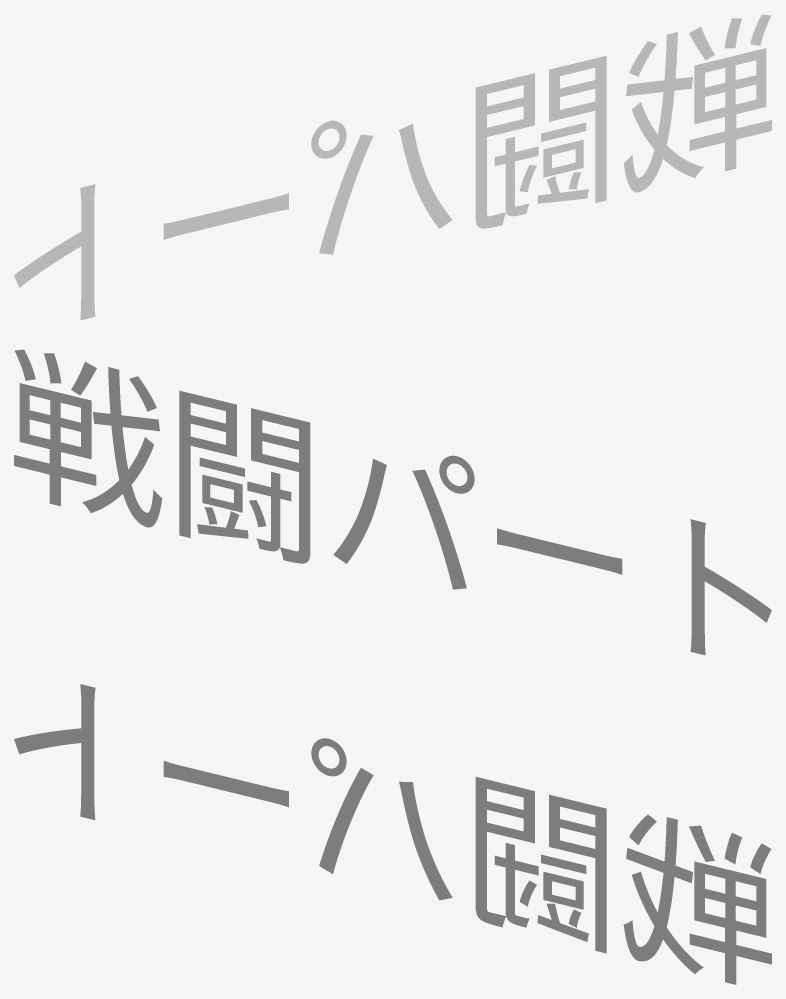
Rendered from fightpart.obj.
3 views of the same model, one above another, from view 1: azimuth 30°, elevation 25°; view 2: azimuth 150°, elevation 25°; view 3: azimuth 330°, elevation 25° (orthographic).
Visible parts, largest first — view 1: テキスト.005; view 2: テキスト.005; view 3: テキスト.005.
Part boxes in pixels (x1=…): テキスト.005: x1=14, y1=14, x2=771, y2=320; テキスト.005: x1=14, y1=349, x2=771, y2=655; テキスト.005: x1=14, y1=684, x2=771, y2=984.
Size of the model in its own units: 4.81 by 0.918 by 0.
1 material, 1 textured.
